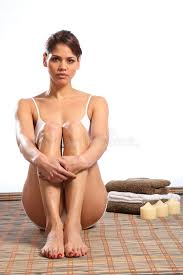person: (42, 29, 82, 88)
